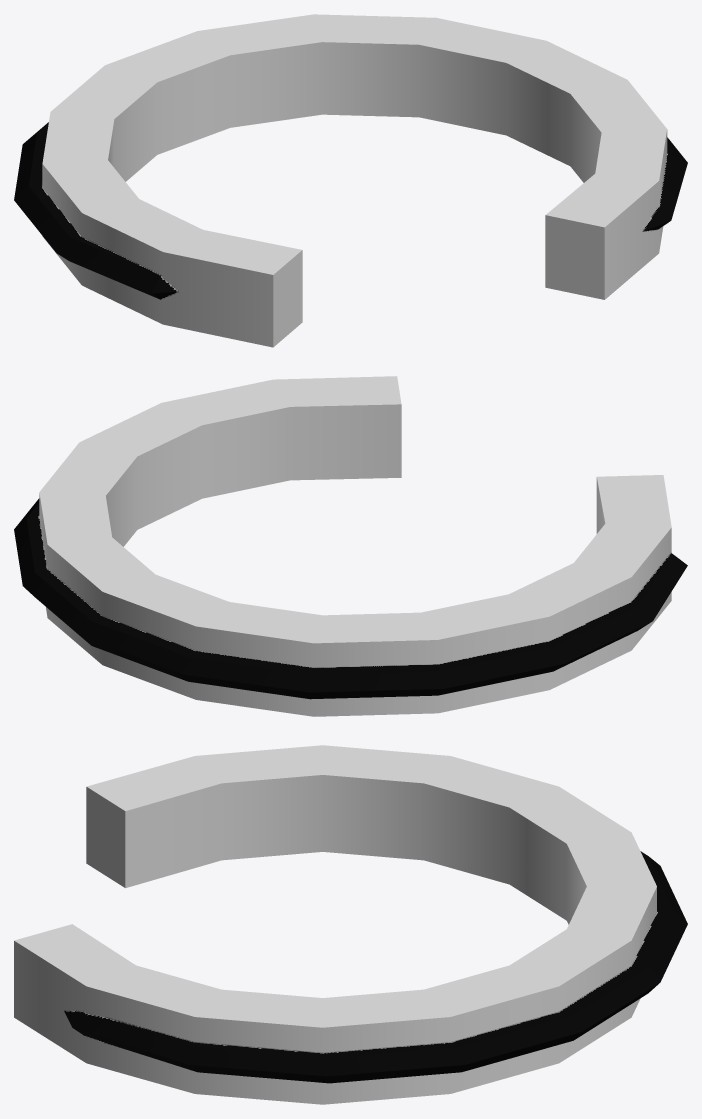
Rendered from Disco.fbx.
The picture shows the model from 3 angles, top to bottom: view 1: azimuth 30°, elevation 25°; view 2: azimuth 150°, elevation 25°; view 3: azimuth 270°, elevation 25°; orthographic projection. The views are drawn at different scales.
Parts seen in each view (by area): view 1: DiscoLowPoly; view 2: DiscoLowPoly; view 3: DiscoLowPoly.
Boxes of the visible parts, bbox=[...] form: DiscoLowPoly: bbox=[14, 14, 687, 347]; DiscoLowPoly: bbox=[14, 376, 687, 716]; DiscoLowPoly: bbox=[14, 745, 687, 1104].
Bounding box in the file's own units: 50.36 × 5.93 × 47.06.
